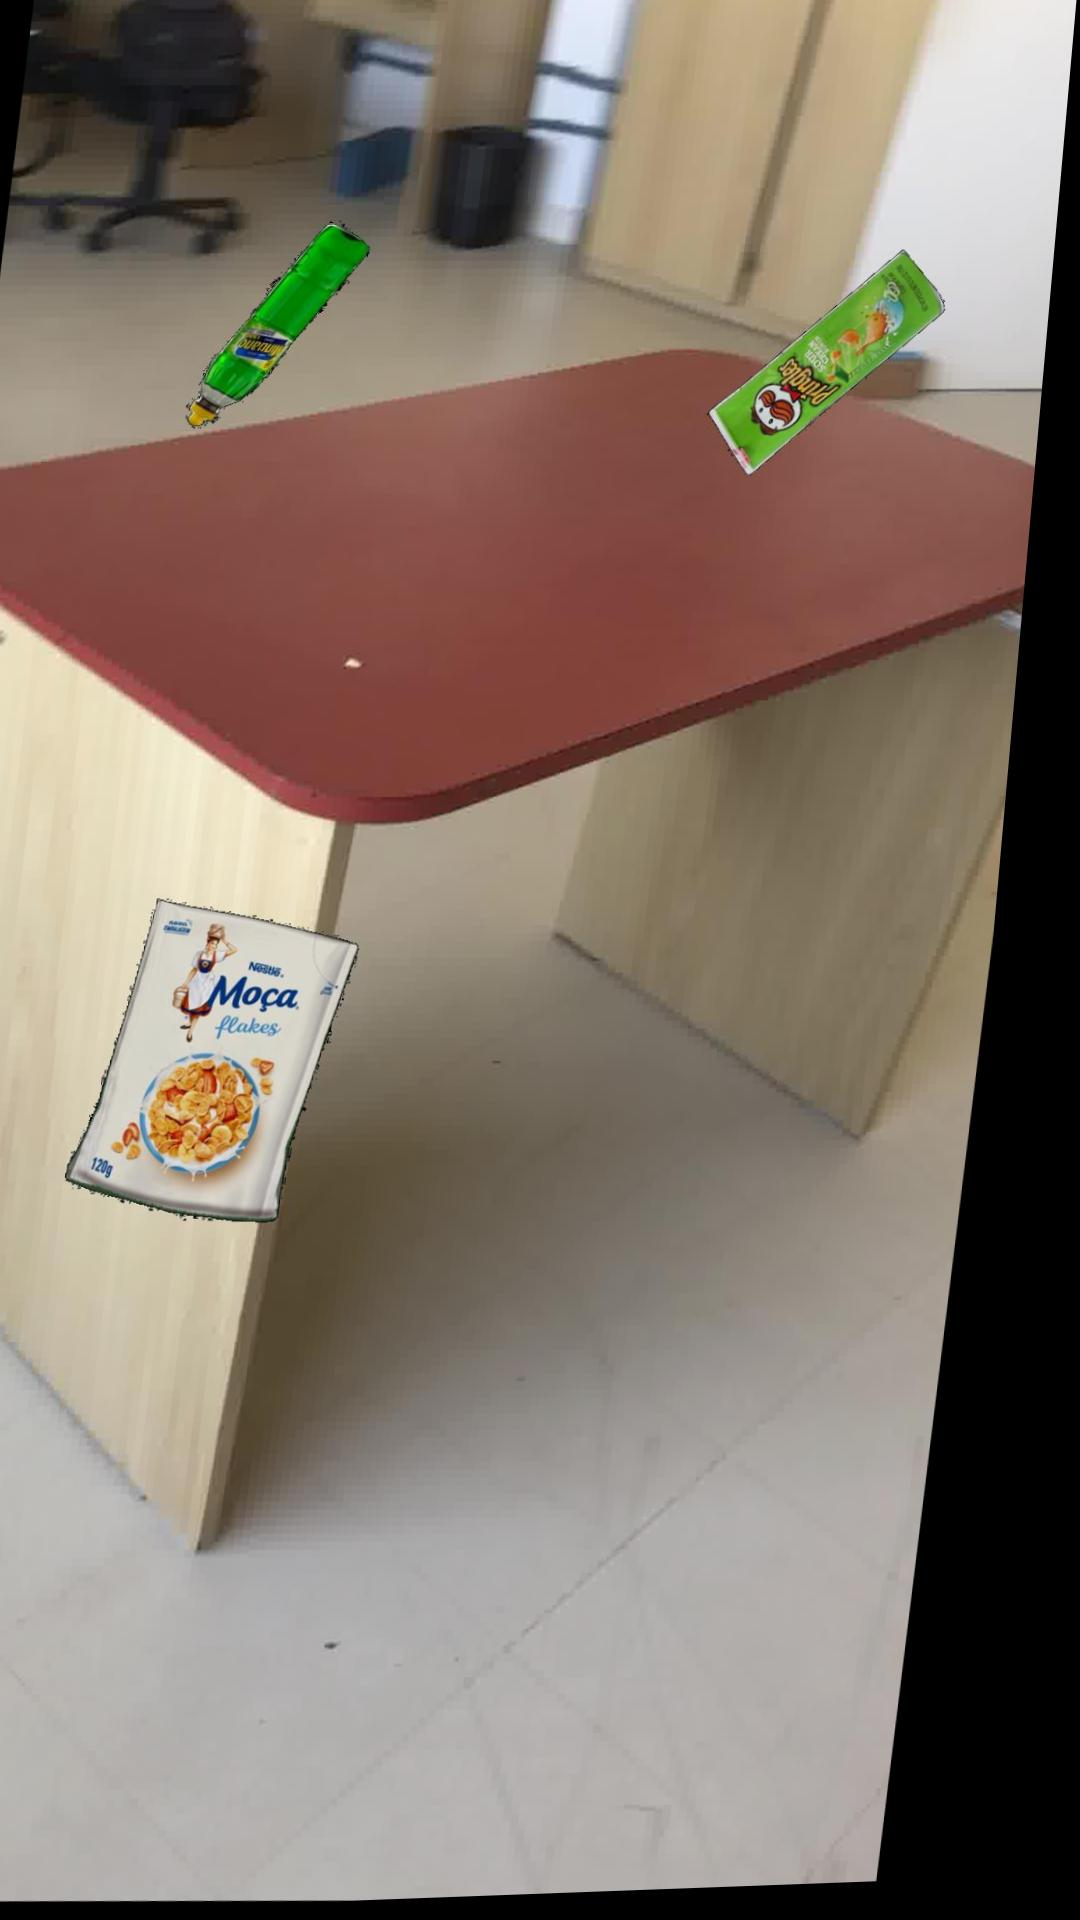cleaner: (195, 224, 376, 427)
corn flakes: (88, 898, 377, 1222)
pringles: (716, 255, 952, 479)
